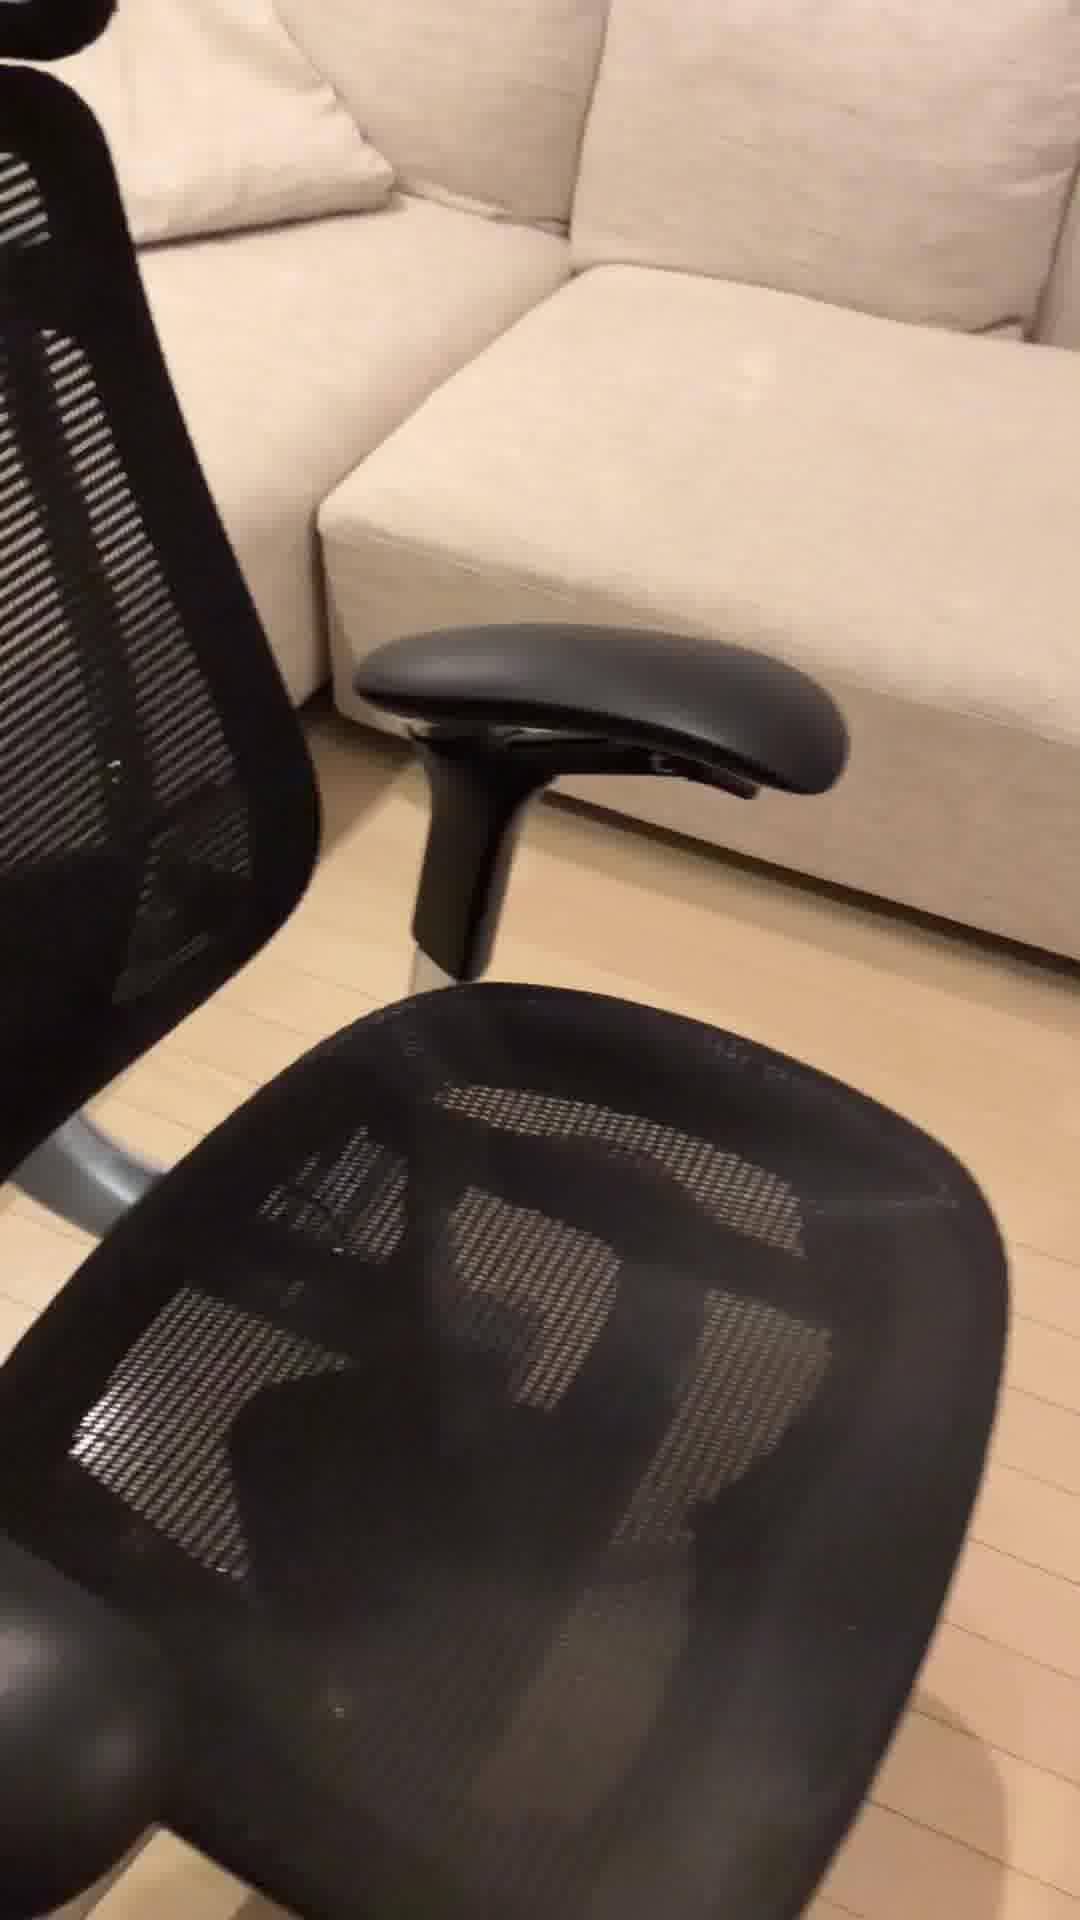okamura-contessa: (0, 0, 1017, 1920)
